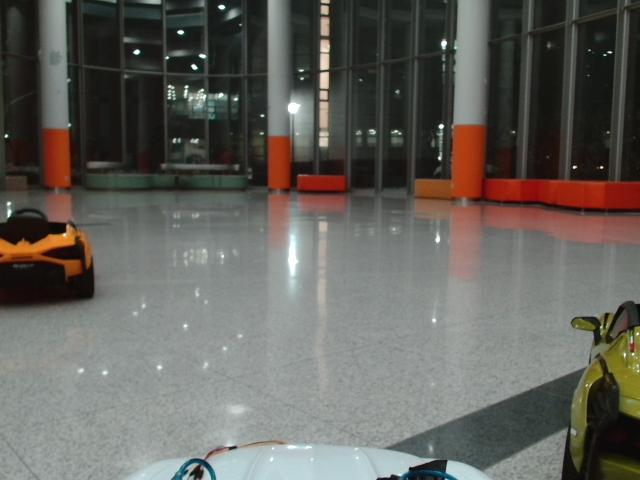car: (1, 209, 95, 306)
